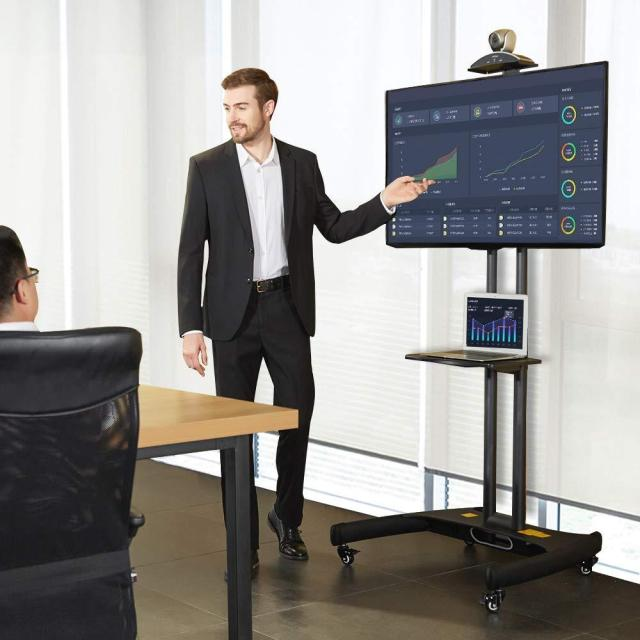electronics: (330, 350, 601, 613), (386, 62, 607, 247), (429, 292, 526, 361), (463, 292, 526, 355), (465, 293, 526, 344), (468, 29, 536, 73), (468, 51, 536, 74), (426, 349, 524, 361), (488, 29, 515, 52), (516, 248, 527, 290), (486, 248, 497, 289), (465, 336, 468, 343), (481, 353, 485, 358), (497, 355, 502, 357)
